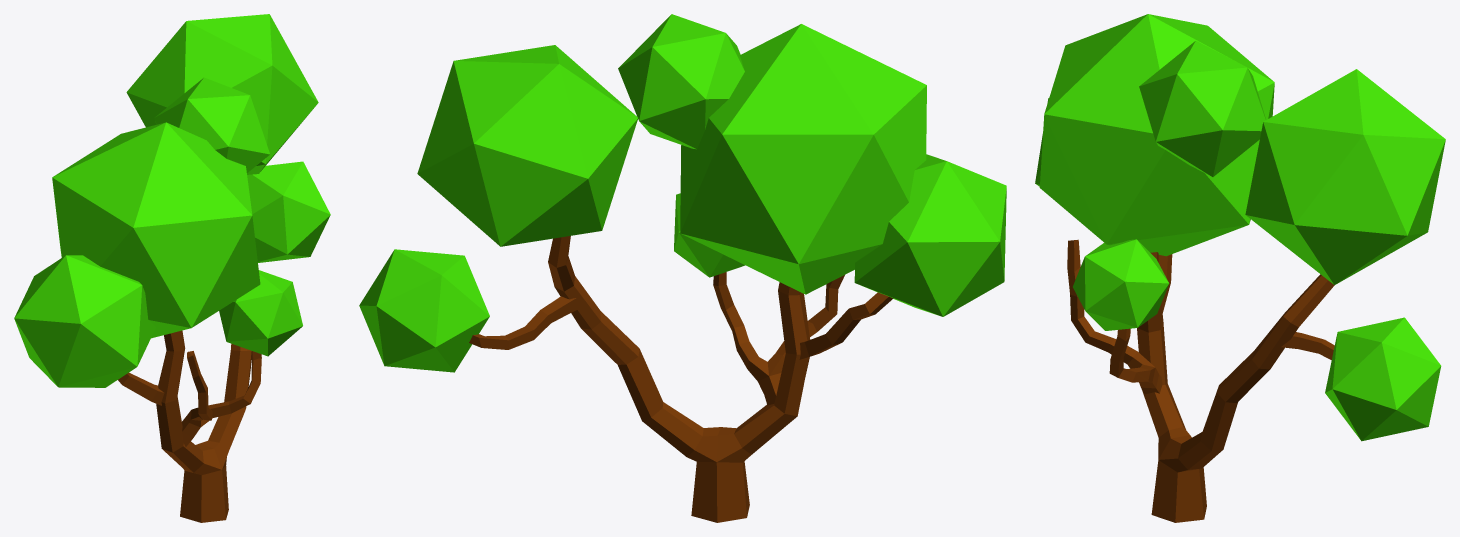
Rendered from tree.glb.
The picture shows the model from 3 angles, left to right: view 1: azimuth 30°, elevation 25°; view 2: azimuth 150°, elevation 25°; view 3: azimuth 270°, elevation 25°; orthographic projection. The views are drawn at different scales.
Visible parts, largest first — view 1: Tree_lp_11; view 2: Tree_lp_11; view 3: Tree_lp_11.
Part boxes in pixels (x1=…): Tree_lp_11: x1=14, y1=14, x2=330, y2=522; Tree_lp_11: x1=359, y1=14, x2=1006, y2=522; Tree_lp_11: x1=1035, y1=14, x2=1445, y2=522.
Size of the model in its own units: 2.8 by 2.65 by 2.08.
